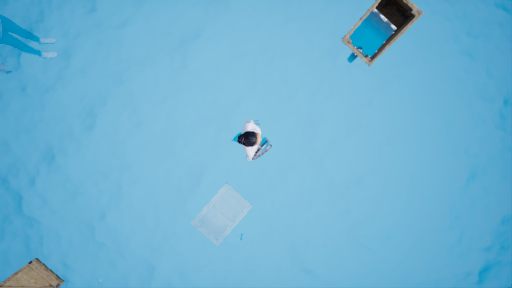person: (231, 117, 271, 163)
